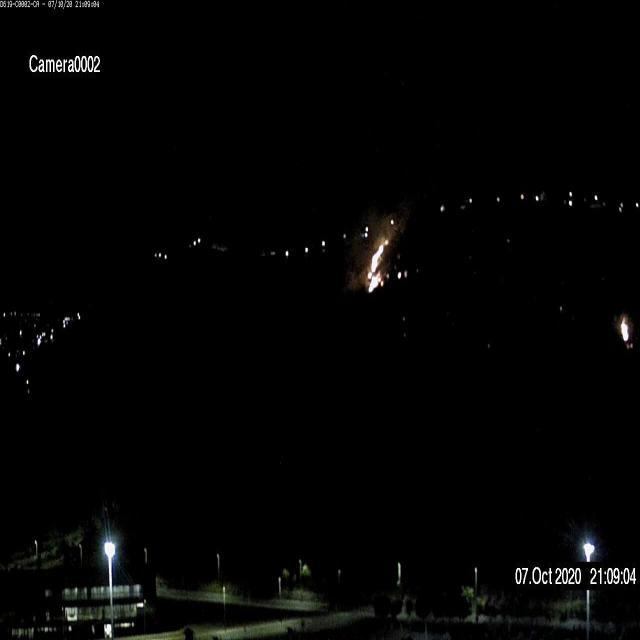Fire: (364, 236, 390, 292), (616, 313, 632, 346)
